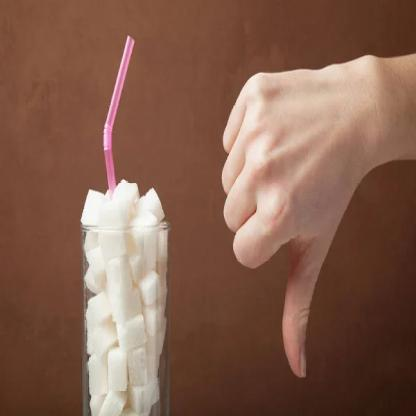thumb_down: (219, 61, 344, 382)
